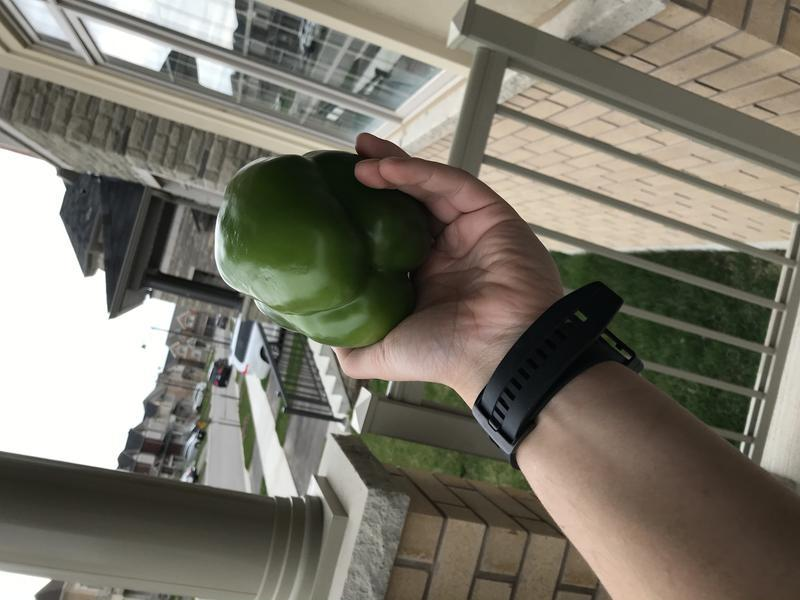green_pepper: (207, 144, 458, 359)
